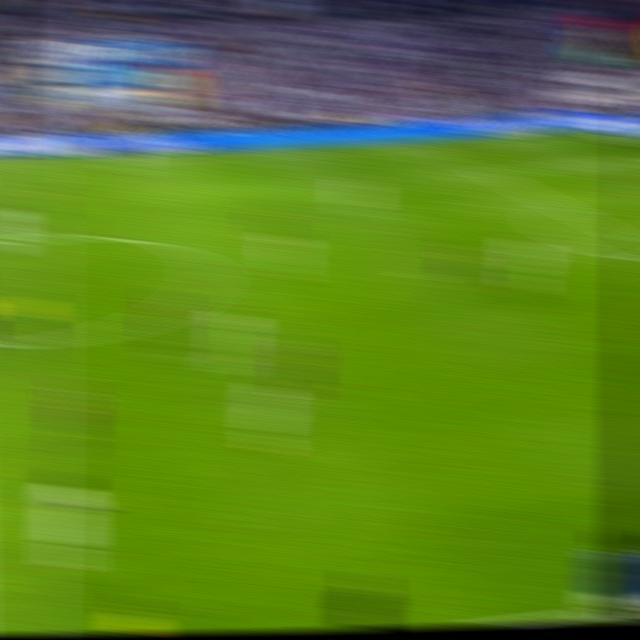corner: (572, 124, 601, 138)
halfcircle_bottom: (26, 325, 60, 355)
halfcircle_top: (28, 225, 59, 247)
midline_top_intersection: (29, 154, 57, 168)
top_arc_area_intersection: (546, 197, 575, 215)
